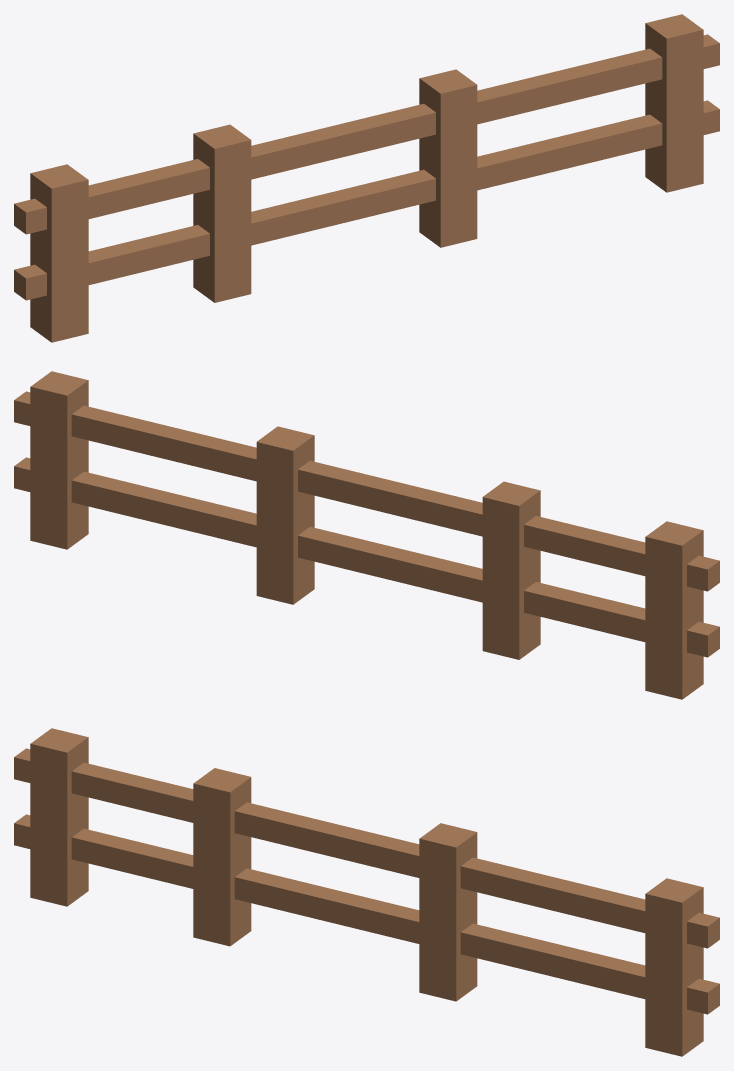
The model's file is WoodenFence_03.fbx.
3 renders of one model, top to bottom at view 1: azimuth 30°, elevation 25°; view 2: azimuth 150°, elevation 25°; view 3: azimuth 330°, elevation 25°, orthographic.
Parts seen in each view (by area): view 1: WoodenFence_03; view 2: WoodenFence_03; view 3: WoodenFence_03.
Boxes of the visible parts, bbox=[...] form: WoodenFence_03: bbox=[14, 14, 719, 342]; WoodenFence_03: bbox=[14, 371, 719, 699]; WoodenFence_03: bbox=[14, 728, 719, 1056].
Size of the model in its own units: 6.6 by 1.4 by 0.35.
